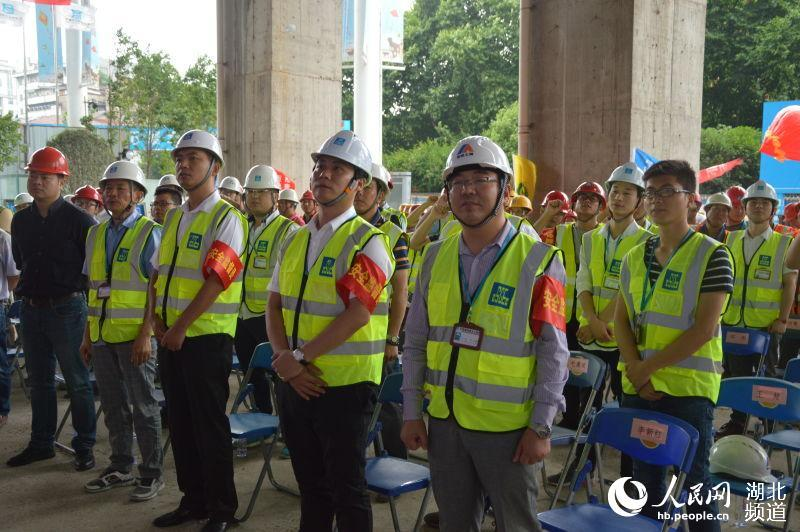helmet: (308, 132, 373, 190), (443, 136, 513, 180), (171, 130, 226, 169), (102, 161, 149, 201), (25, 146, 71, 181), (609, 163, 645, 193), (246, 167, 282, 194), (574, 182, 606, 211), (71, 185, 103, 212), (368, 164, 395, 195), (745, 180, 778, 205), (544, 191, 573, 216), (506, 197, 533, 218), (706, 194, 731, 213), (223, 176, 244, 193), (159, 175, 181, 189), (14, 193, 33, 208), (281, 191, 298, 205), (302, 191, 315, 205)
